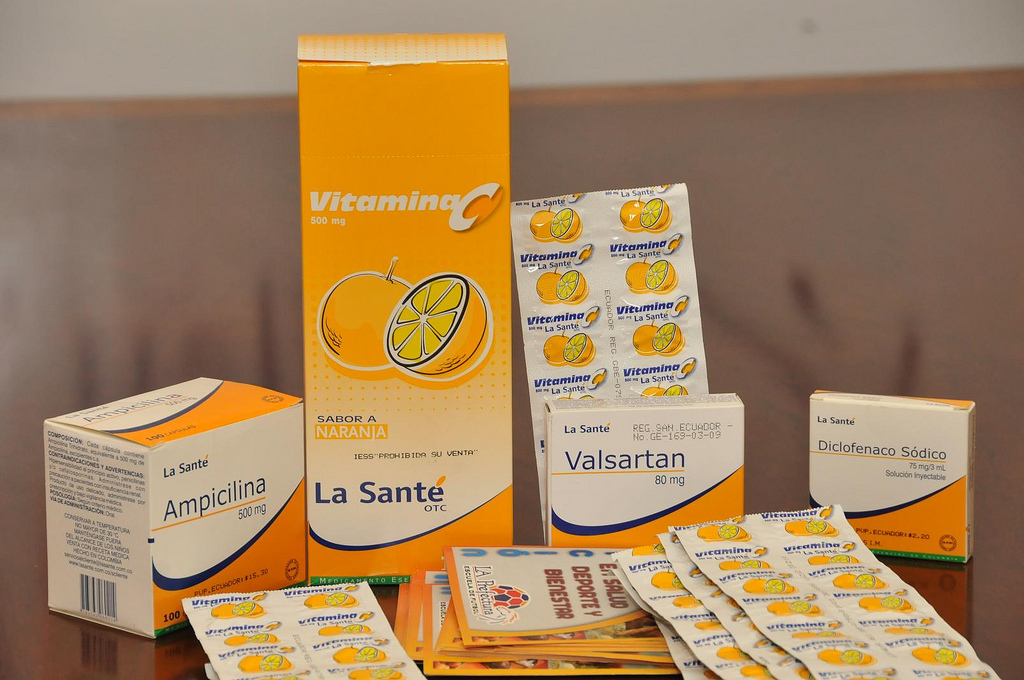LaSante: (298, 64, 513, 585), (146, 413, 306, 624), (554, 411, 741, 547)
